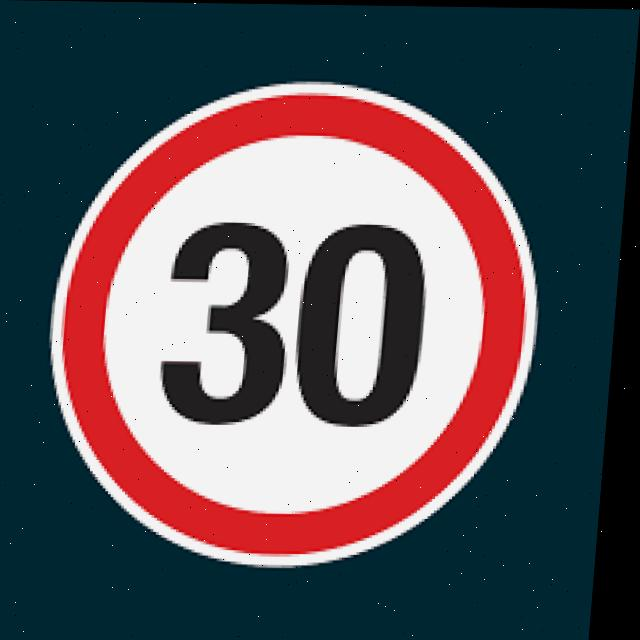Speed limit 30: (36, 73, 562, 571)
